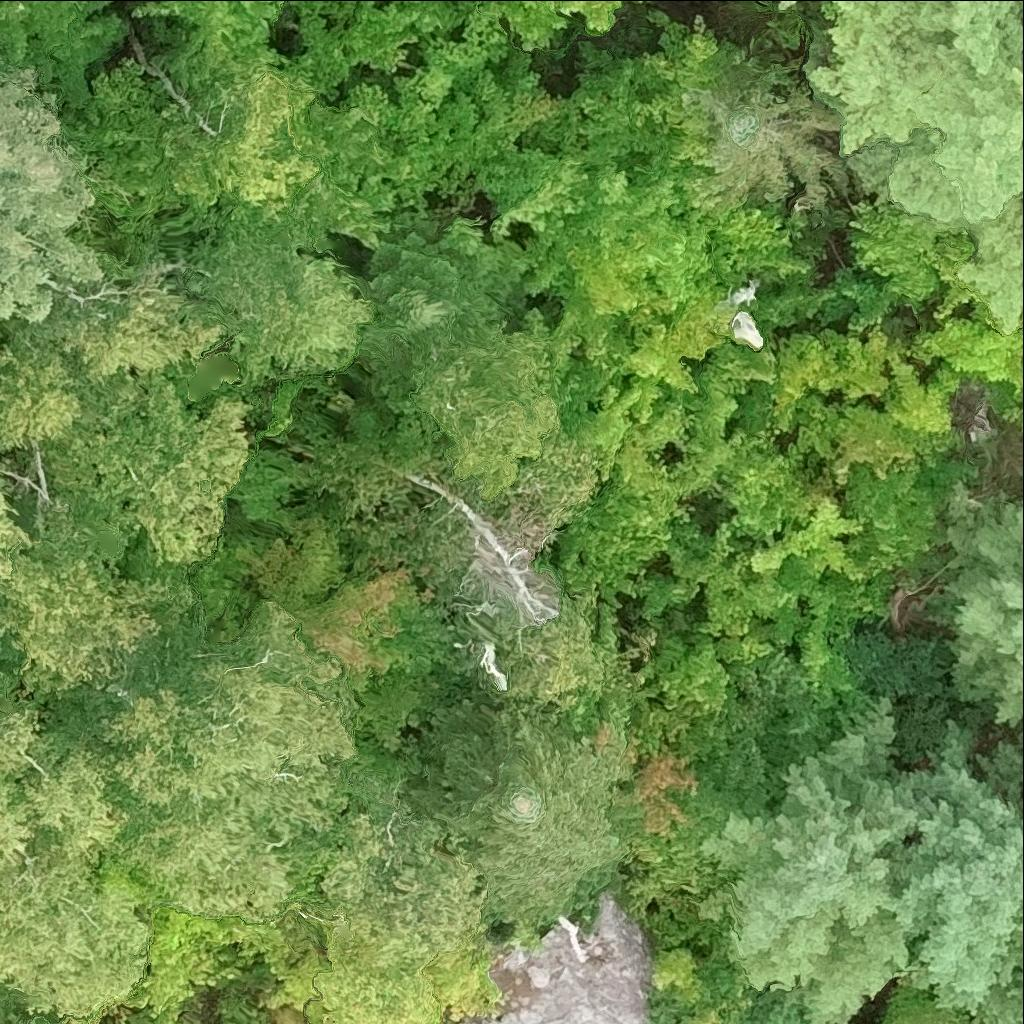crown: (93, 607, 358, 919), (700, 697, 934, 1023), (815, 0, 1023, 330), (412, 700, 631, 941), (336, 11, 566, 211), (63, 62, 322, 232), (889, 721, 1023, 1023), (34, 344, 211, 548), (491, 152, 726, 305), (174, 218, 374, 391), (0, 502, 172, 697), (408, 307, 572, 498), (0, 820, 153, 1021), (315, 803, 487, 974), (554, 455, 714, 614), (0, 72, 99, 323), (923, 480, 1023, 725), (681, 64, 850, 208), (17, 272, 230, 384), (512, 42, 683, 179), (506, 228, 665, 367), (284, 566, 454, 693), (414, 480, 561, 624), (747, 493, 888, 643), (796, 367, 969, 486), (135, 396, 254, 567), (352, 229, 503, 361), (283, 0, 484, 99), (0, 710, 124, 870), (625, 7, 750, 158), (609, 680, 726, 840), (833, 448, 977, 578), (128, 0, 286, 100), (850, 204, 986, 316), (671, 336, 777, 479), (705, 440, 834, 555), (569, 374, 700, 484), (89, 860, 235, 957), (0, 0, 127, 107), (484, 422, 598, 539), (631, 280, 738, 393), (663, 521, 761, 637), (0, 314, 83, 450), (721, 648, 834, 745), (704, 191, 807, 289), (910, 322, 1023, 409), (120, 939, 242, 1018), (649, 934, 756, 1023), (627, 631, 732, 712), (791, 620, 877, 718), (767, 330, 845, 433), (812, 326, 914, 404), (422, 928, 502, 1023), (477, 0, 621, 52), (261, 941, 348, 1014), (881, 981, 971, 1023), (714, 612, 780, 669), (226, 915, 288, 968), (738, 981, 813, 1023), (0, 475, 29, 579), (480, 638, 508, 688), (220, 1001, 265, 1023), (126, 1006, 180, 1023), (1002, 392, 1023, 427), (0, 637, 20, 673), (273, 1003, 308, 1023), (1014, 460, 1023, 473), (636, 0, 644, 0)
